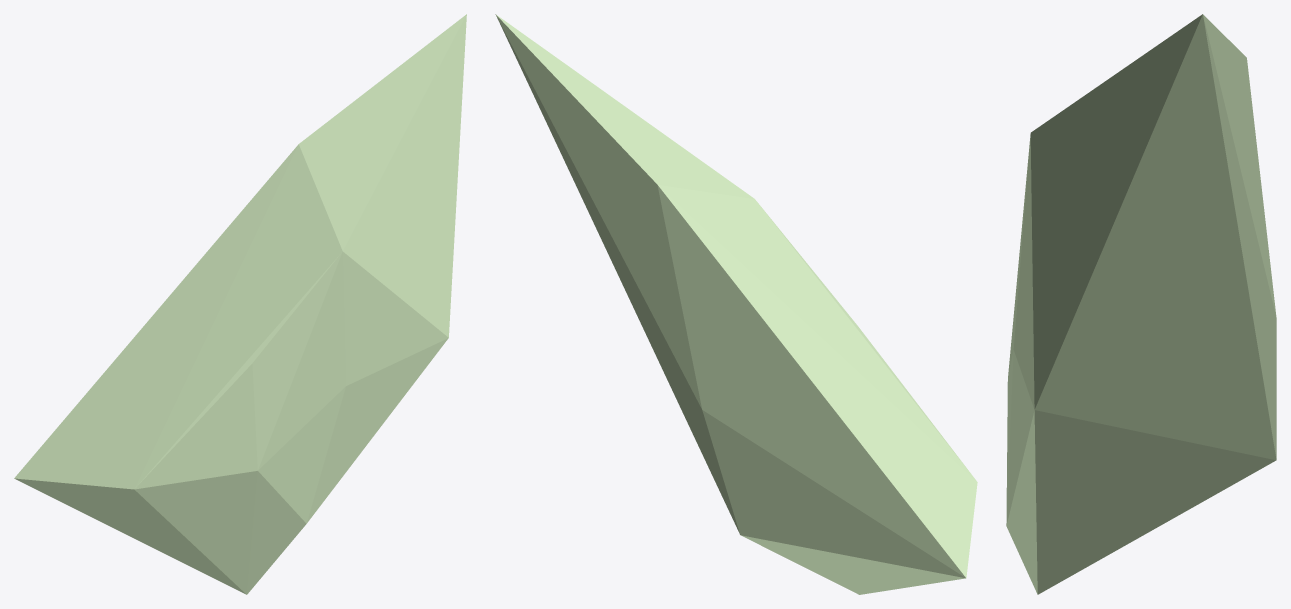
File: iiwa_robot_base_coll_2.obj
3 renders of one model, left to right at view 1: azimuth 30°, elevation 25°; view 2: azimuth 150°, elevation 25°; view 3: azimuth 270°, elevation 25°, orthographic. The views are drawn at different scales.
Parts seen in each view (by area): view 1: node; view 2: node; view 3: node.
Part boxes in pixels (bbox=[...]): node: bbox=[14, 14, 466, 594]; node: bbox=[495, 14, 977, 594]; node: bbox=[1006, 14, 1276, 594].
Size of the model in its own units: 0.0415 by 0.0439 by 0.0134.
